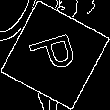P_E: (25, 30, 85, 80)
